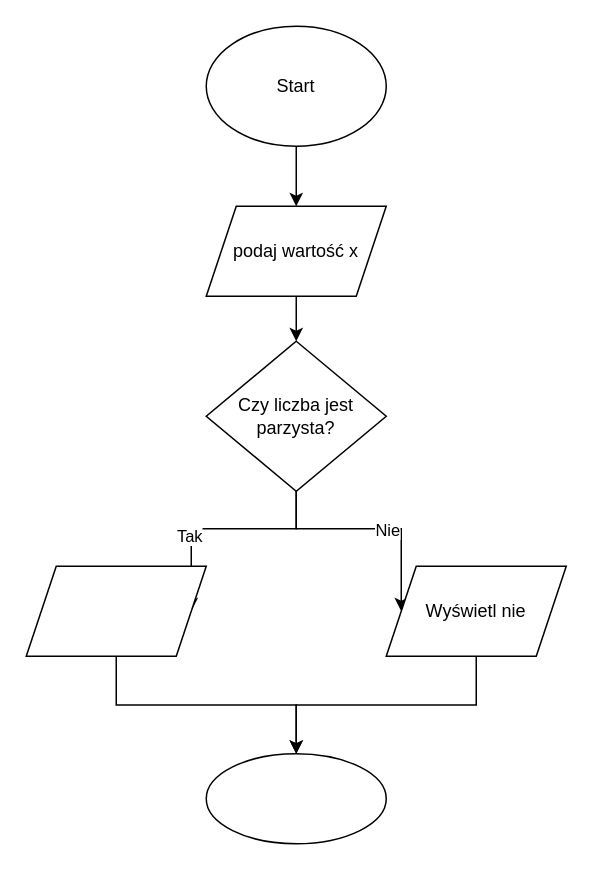
Image size: 593x870. Some labels were removed from this diagram. The shapes that lost their labels are listed below. From the top down, each one's box as (x1, y1, x2, y2) in pixels, then its label:
(25, 565, 206, 656): Wyświetl tak
(205, 752, 386, 844): End
